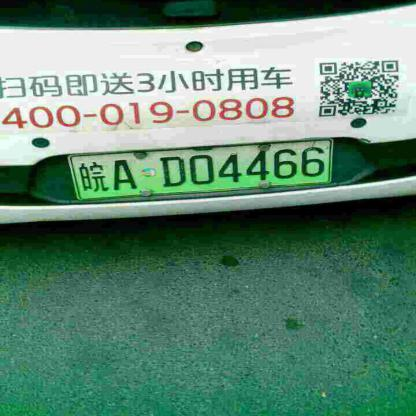lp: (72, 139, 331, 199)
